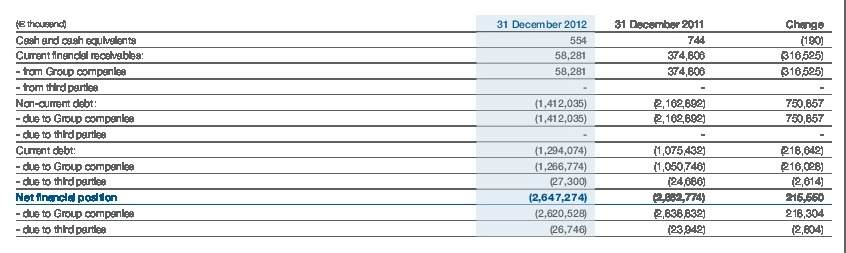table: (0, 0, 846, 253)
